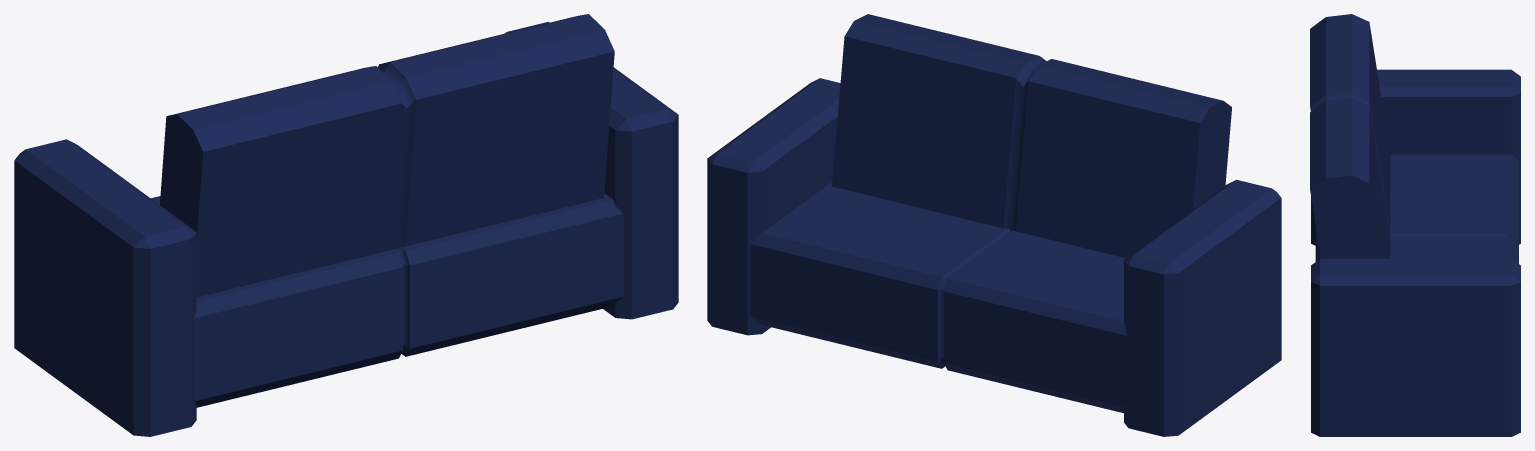
Rendered from f_lounge_sofa.fbx.
The picture shows the model from 3 angles, left to right: view 1: azimuth 30°, elevation 25°; view 2: azimuth 150°, elevation 25°; view 3: azimuth 270°, elevation 25°; orthographic projection. The views are drawn at different scales.
Parts seen in each view (by area): view 1: sofa:back1, sofa:seat1, sofa:arm1, sofa:arm2; view 2: sofa:back1, sofa:seat1, sofa:arm1, sofa:arm2; view 3: sofa:arm2, sofa:back1, sofa:seat1, sofa:arm1.
Part boxes in pixels (x1,y1,x2,y2): sofa:back1: (160, 14, 614, 297); sofa:seat1: (151, 193, 623, 407); sofa:arm1: (14, 139, 196, 436); sofa:arm2: (505, 22, 678, 319); sofa:back1: (831, 14, 1231, 258); sofa:seat1: (750, 182, 1127, 413); sofa:arm1: (1124, 179, 1281, 436); sofa:arm2: (707, 78, 840, 335); sofa:arm2: (1311, 258, 1520, 436); sofa:back1: (1310, 14, 1390, 258); sofa:seat1: (1315, 154, 1518, 263); sofa:arm1: (1311, 69, 1520, 245).
Bounding box in the file's own units: 197 × 100 × 81.93.
Materials: 1 (1 with a texture image).
